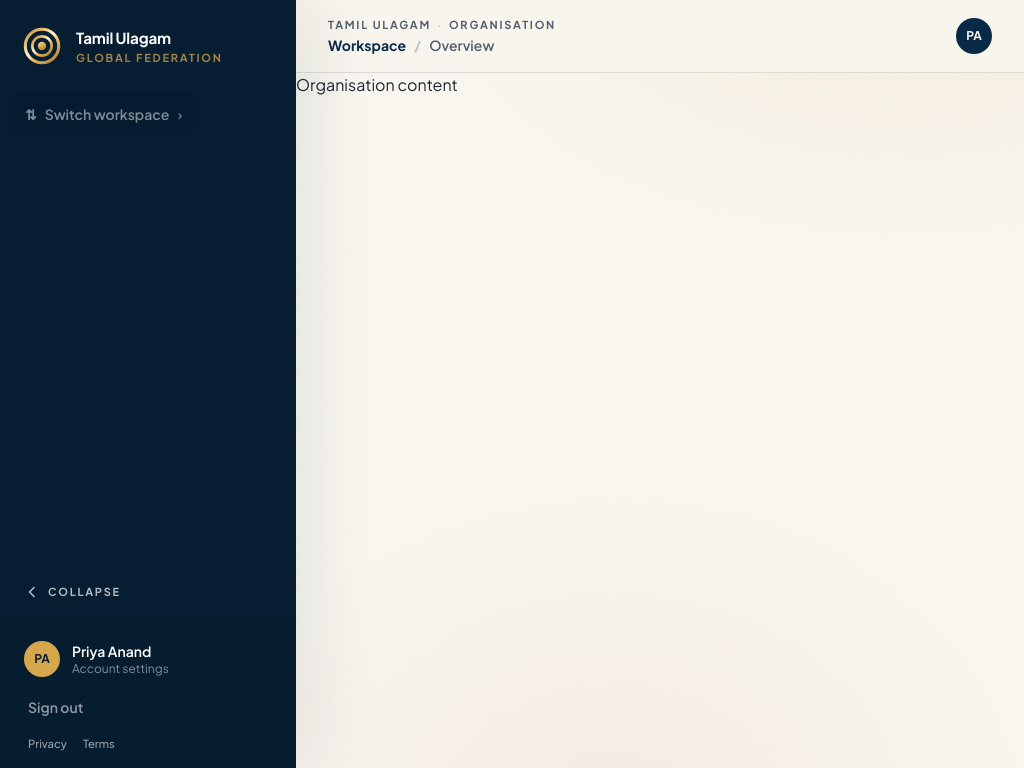
Test case: WorkspaceShell › leaves the session alone when the sign-out prompt is dismissed
Click the button "Sign out": (56, 707) [16,687,279,727]
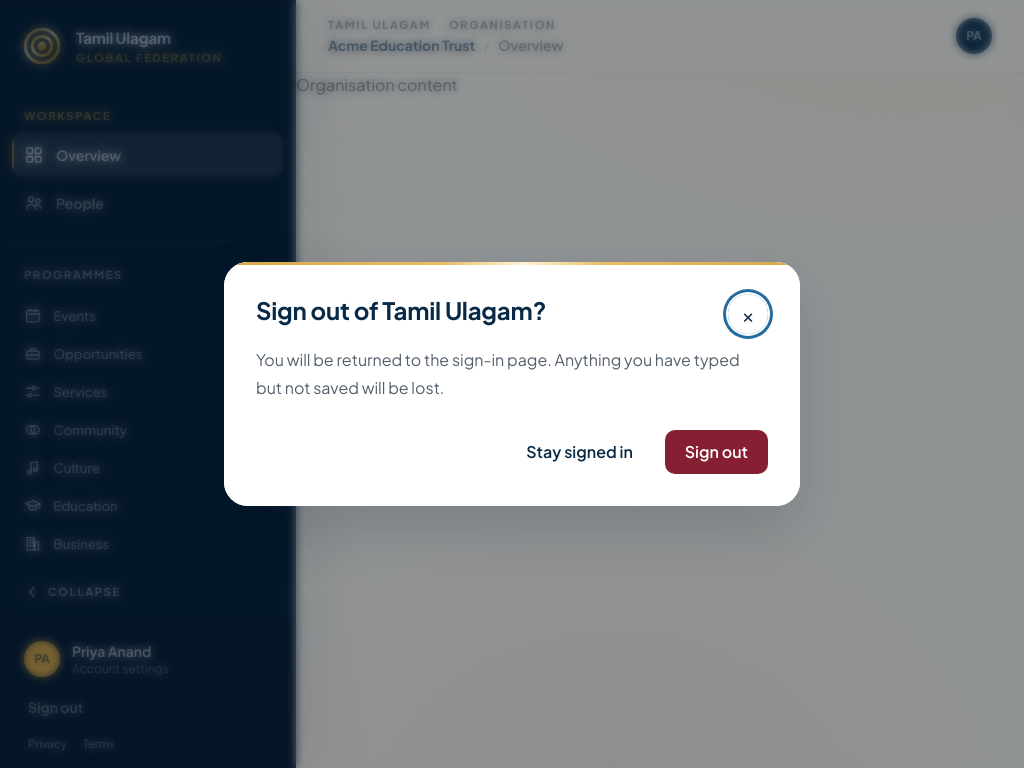
Click the button "Stay signed in": (580, 452) [506,430,653,474]
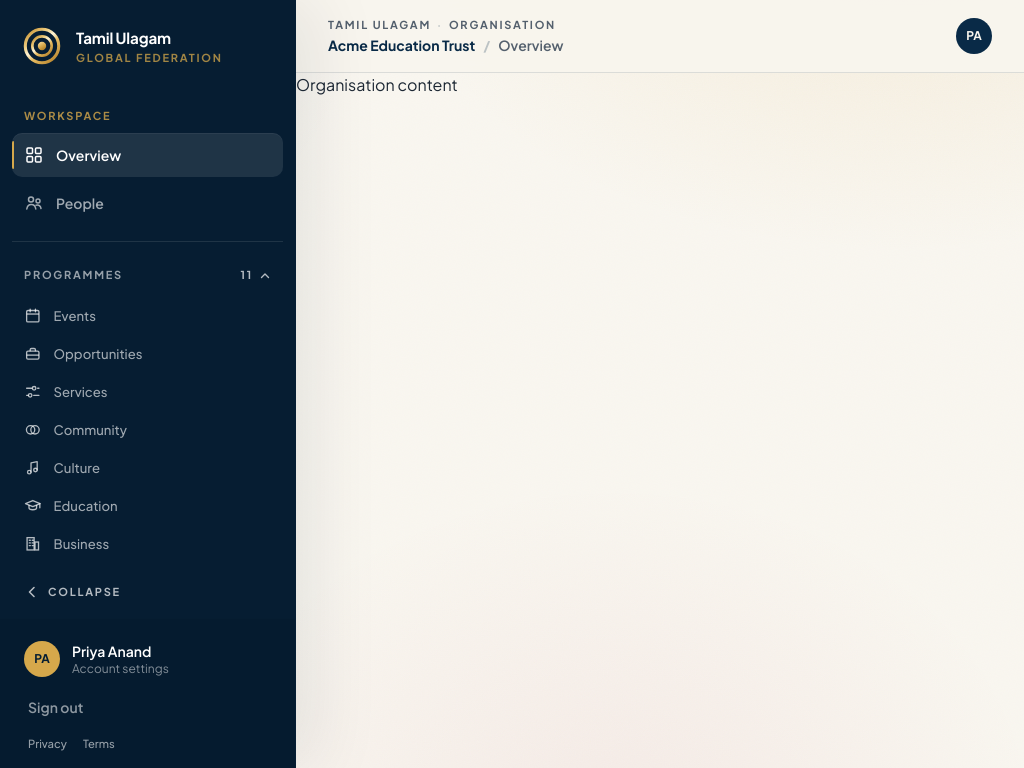
Expected: the dialog is gone
